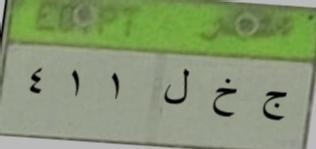1: (62, 62, 88, 108), (106, 68, 128, 107)
4: (25, 63, 49, 103)
jeem: (258, 81, 291, 133)
khaa: (210, 78, 242, 128)
laam: (159, 67, 192, 112)
